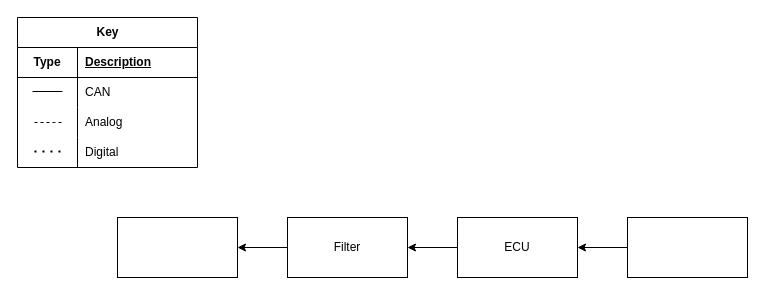
This 765x295 diagram has some shape labels left out. Each missing label, with the centre of its shape:
"APS" goes at pixel 687 247.
"Inverter" goes at pixel 177 247.
